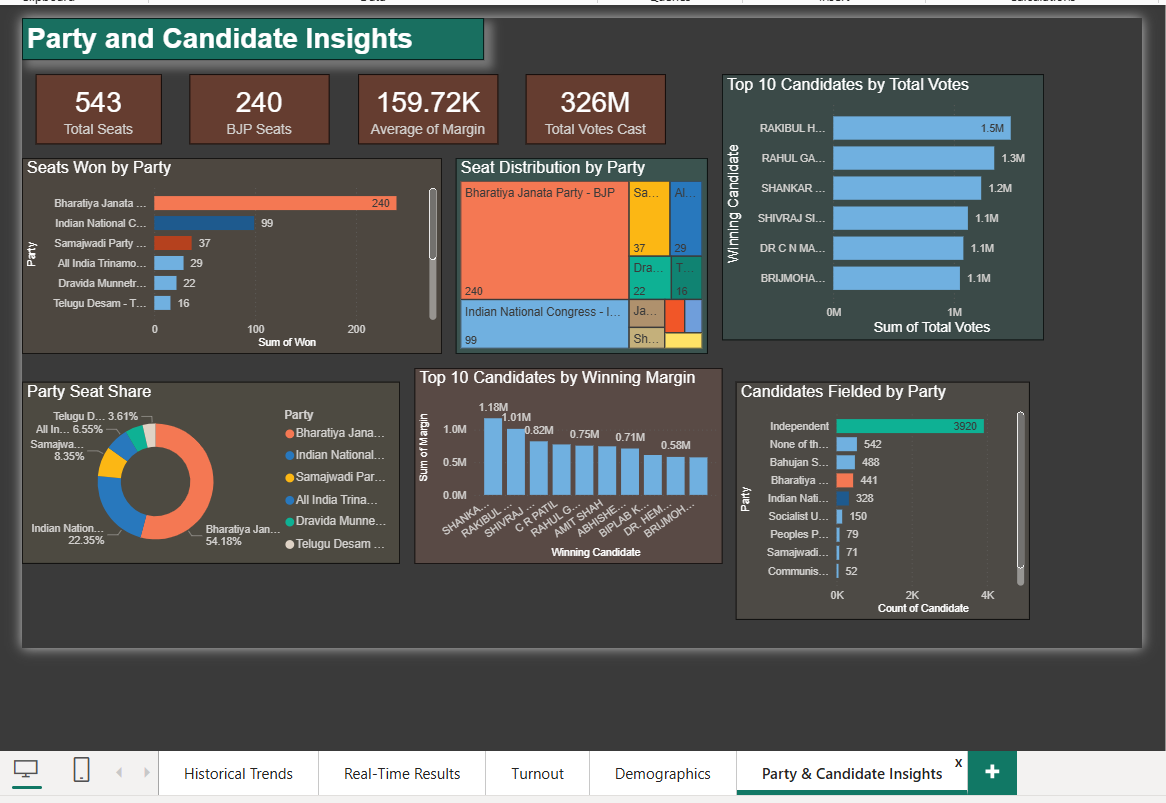

The dashboard page shown, as its layout file describes it:
{"tool":"powerbi","page":{"name":"Party & Candidate Insights","canvas":[1280,720],"ordinal":4},"visuals":[{"type":"card","fields":{"Values":["ConstituencyWiseResults.Total Seats"]},"box":[16,64,144,80],"z":0},{"type":"textbox","box":[0,0,528,48],"z":1000},{"type":"card","fields":{"Values":["Avg(Indian_Election_Dataset.Margin)"]},"box":[384,64,160,80],"z":2000},{"type":"card","fields":{"Values":["ConstituencyWiseResults.Total Votes Cast"]},"box":[576,64,160,80],"z":3000},{"type":"clusteredBarChart","title":"Seats Won by Party","fields":{"Category":["PartyWiseResults.Party"],"Y":["Sum(PartyWiseResults.Won)"]},"box":[0,160,480,224],"z":4000},{"type":"donutChart","title":" Party Seat Share","fields":{"Category":["PartyWiseResults.Party"],"Y":["Sum(PartyWiseResults.Won)"]},"box":[0,416,432,208],"z":5000},{"type":"treemap","title":"Seat Distribution by Party","fields":{"Group":["PartyWiseResults.Party"],"Values":["Sum(PartyWiseResults.Won)"]},"box":[496,160,288,224],"z":6000},{"type":"clusteredColumnChart","title":"Top 10 Candidates by Winning Margin","fields":{"Category":["ConstituencyWiseResults.Winning Candidate"],"Y":["Sum(ConstituencyWiseResults.Margin)"]},"box":[448,400,352,224],"z":7000},{"type":"clusteredBarChart","title":"Top 10 Candidates by Total Votes","fields":{"Category":["ConstituencyWiseResults.Winning Candidate"],"Y":["Sum(ConstituencyWiseResults.Total Votes)"]},"box":[800,64,368,304],"z":8000},{"type":"clusteredBarChart","title":"Candidates Fielded by Party","fields":{"Category":["ConstituencyWiseDetails.Party"],"Y":["CountNonNull(ConstituencyWiseDetails.Candidate)"]},"box":[816,416,336,272],"z":9000},{"type":"card","fields":{"Values":["PartyWiseResults.BJP Seats"]},"box":[192,64,160,80],"z":10000}]}

Visuals, with their boxes on the page's 1280x720 design canvas (x1, y1, x2, y2). These are canvas units, not pixel positions in the 1166x803 screenshot, which may show the page scaled, cropped or inside an application window:
card - ConstituencyWiseResults.Total Seats: Rect(16, 64, 160, 144)
textbox: Rect(0, 0, 528, 48)
card - Avg(Indian_Election_Dataset.Margin): Rect(384, 64, 544, 144)
card - ConstituencyWiseResults.Total Votes Cast: Rect(576, 64, 736, 144)
"Seats Won by Party" clusteredBarChart: Rect(0, 160, 480, 384)
" Party Seat Share" donutChart: Rect(0, 416, 432, 624)
"Seat Distribution by Party" treemap: Rect(496, 160, 784, 384)
"Top 10 Candidates by Winning Margin" clusteredColumnChart: Rect(448, 400, 800, 624)
"Top 10 Candidates by Total Votes" clusteredBarChart: Rect(800, 64, 1168, 368)
"Candidates Fielded by Party" clusteredBarChart: Rect(816, 416, 1152, 688)
card - PartyWiseResults.BJP Seats: Rect(192, 64, 352, 144)
